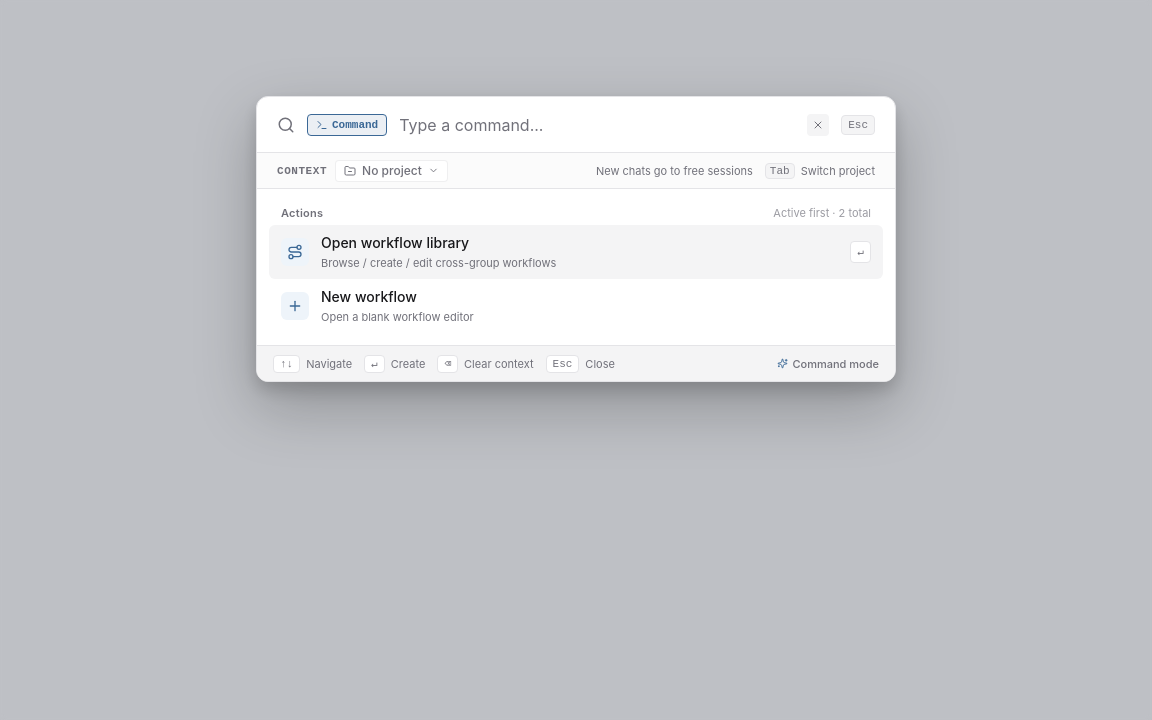
Test: CommandPalette — last-context persistence (BDD: 默认值 = 上次手动选过的) › Given user picks a project in palette, When palette is reopened without project-page injecting, Then the last picked project is restored
The width and height of the screenshot is (1152, 720).
Click the button with aria-label "Switch project context". click: (391, 170)
box: 335,160 -> 448,182
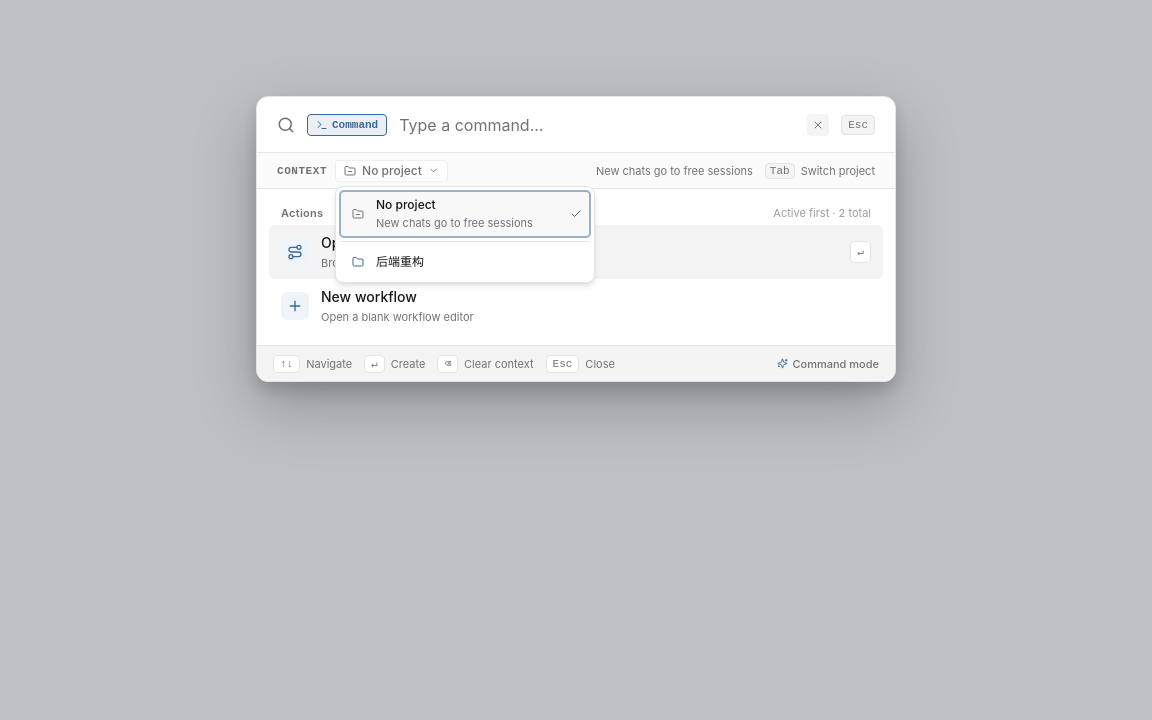
Click the button "后端重构". click: (465, 262)
box: 340,246 -> 590,278
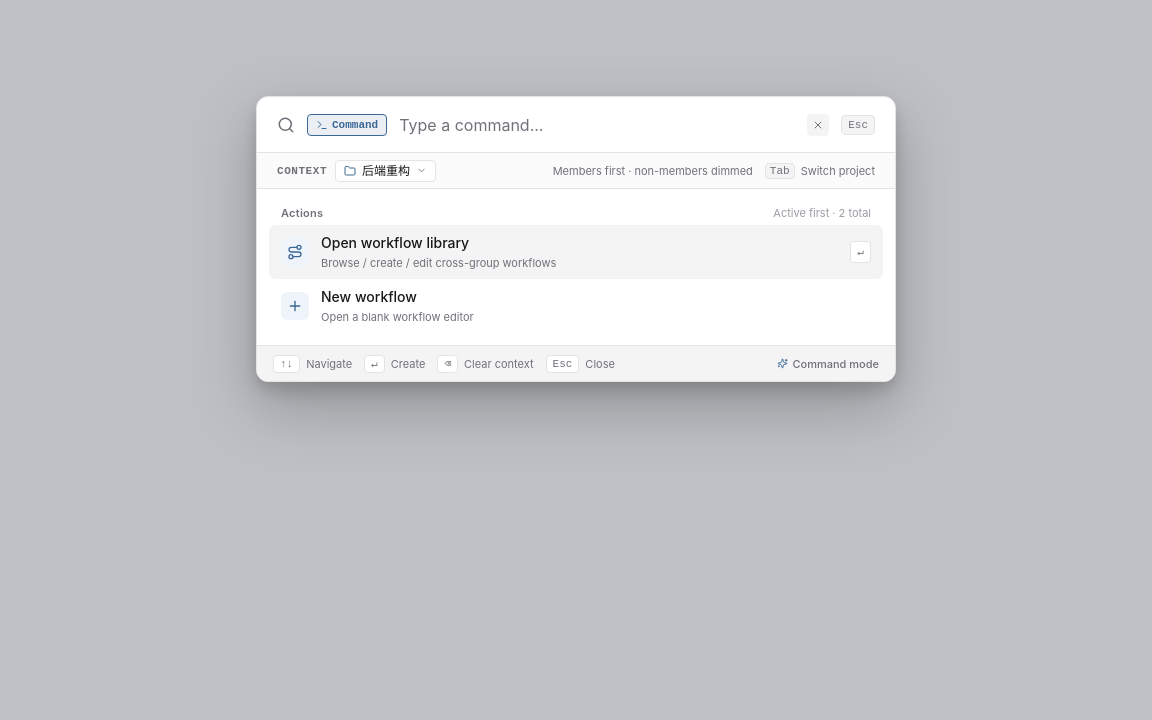
Check: the button "后端重构" is shown, box 335,160 -> 436,182
